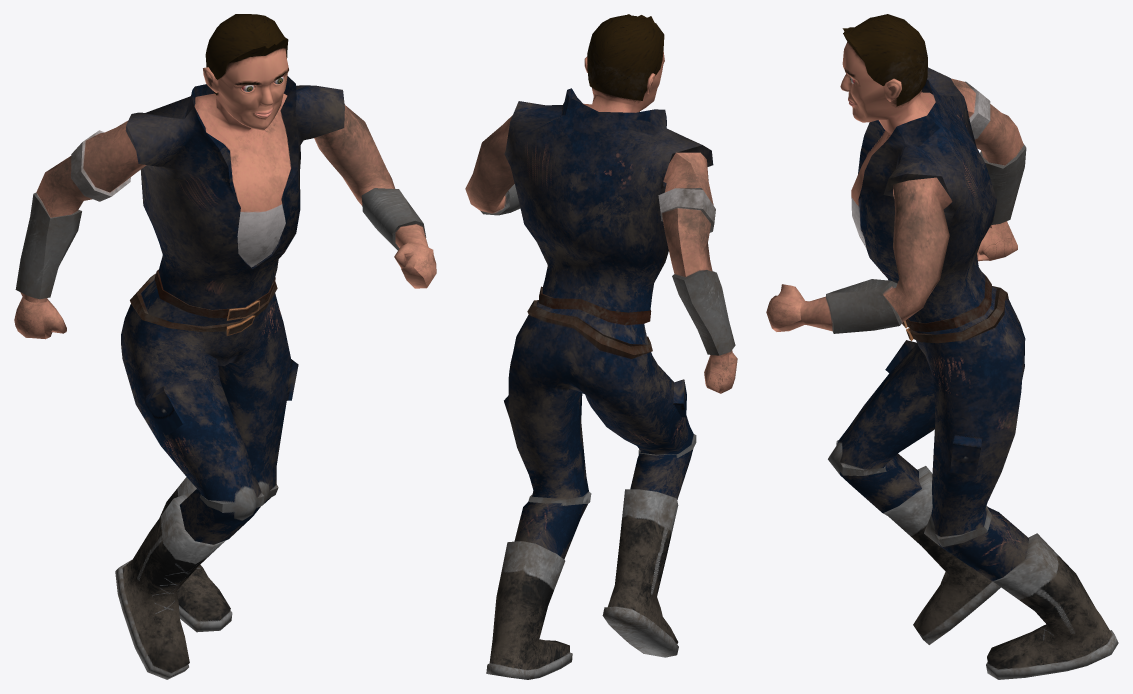
Rendered from Anim_correr_jugador.0028.obj.
The picture shows the model from 3 angles, left to right: view 1: azimuth 30°, elevation 25°; view 2: azimuth 150°, elevation 25°; view 3: azimuth 270°, elevation 25°; orthographic projection. The views are drawn at different scales.
Visible parts, largest first — view 1: Anim_correr_jugador; view 2: Anim_correr_jugador; view 3: Anim_correr_jugador.
Boxes of the visible parts, bbox=[...] form: Anim_correr_jugador: bbox=[14, 14, 436, 679]; Anim_correr_jugador: bbox=[465, 14, 737, 679]; Anim_correr_jugador: bbox=[766, 14, 1118, 679].
Bounding box in the file's own units: 4.77 × 9.03 × 4.46.
